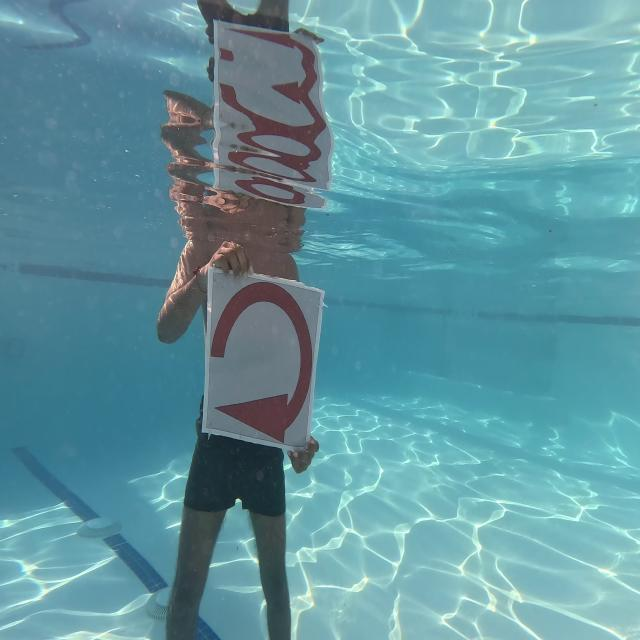red_side: (202, 240, 320, 453)
